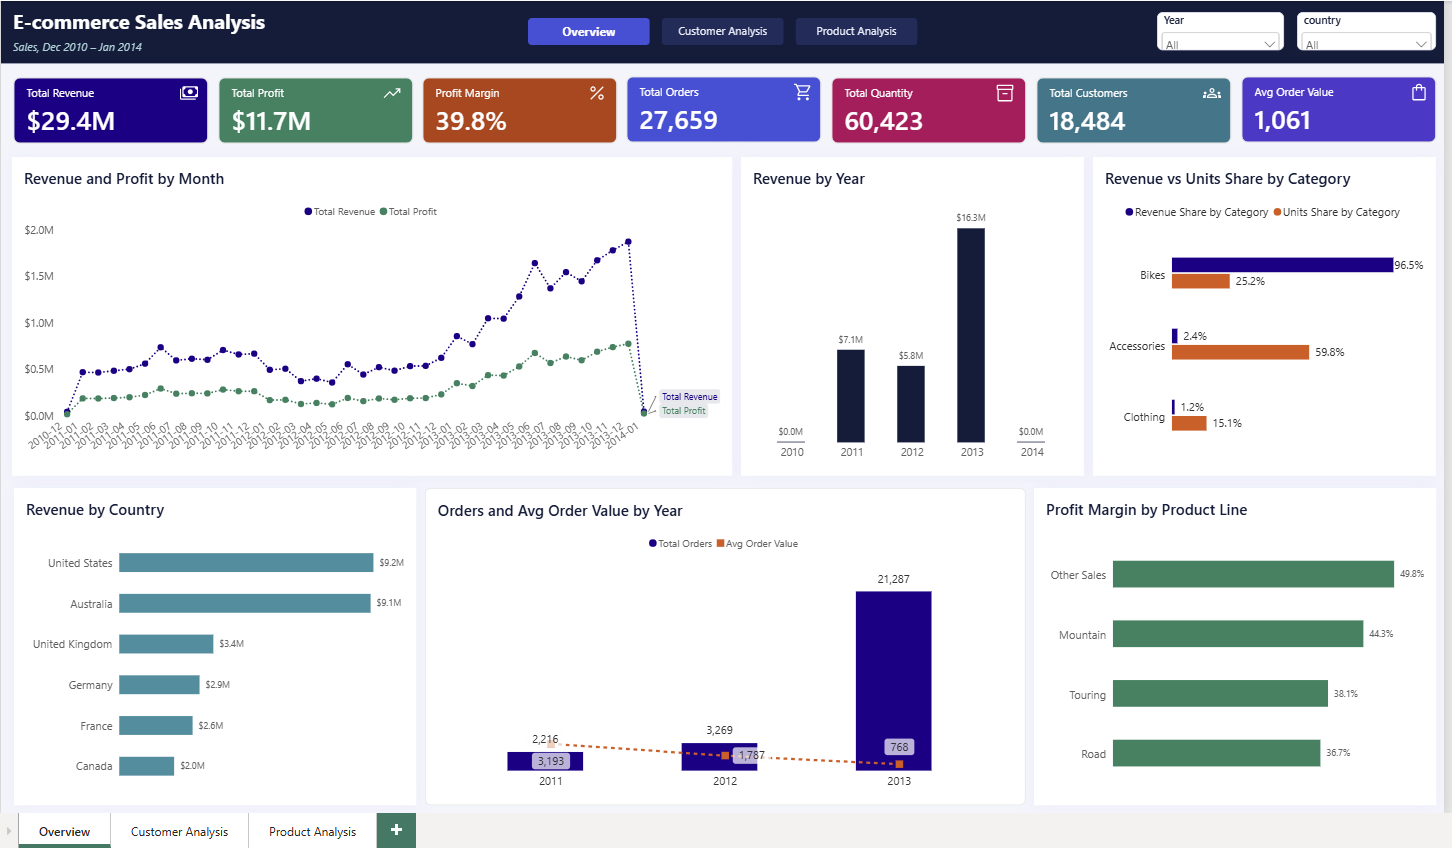

What the dashboard file says about the page in this screenshot:
{"tool":"powerbi","page":{"name":"Overview","canvas":[1920,1080],"ordinal":0},"visuals":[{"type":"cardVisual","title":"Total Revenue","fields":{"Data":["fact_sales.Total Sales"]},"box":[25.4,173.9,241.3,165.2],"z":0},{"type":"cardVisual","title":"Total Orders","fields":{"Data":["fact_sales.Total Orders"]},"box":[829.7,173.9,241.3,165.2],"z":1000},{"type":"lineChart","title":"Sales Trend","fields":{"Category":["Calendar.Year"],"Y":["fact_sales.Total Sales"]},"box":[26.1,367.4,1587,323.9],"z":2000},{"type":"slicer","title":"Year","fields":{"Values":["Calendar.Year"]},"box":[1645.7,173.9,245.7,263],"z":3000},{"type":"slicer","title":"Category","fields":{"Values":["dim_products.category"]},"box":[1674.9,503.4,245.7,219.6],"z":4000},{"type":"slicer","title":"Country","fields":{"Values":["dim_customers.country"]},"box":[1645.7,723.9,245.7,323.9],"z":5000},{"type":"clusteredColumnChart","title":"Sales by Category","fields":{"Category":["dim_products.category"],"Y":["fact_sales.Total Sales"]},"box":[26.1,723.9,1587,323.9],"z":6000},{"type":"shape","box":[25.4,0,1865.2,150],"z":7000},{"type":"textbox","box":[560.9,37,765.2,84.8],"z":8000},{"type":"cardVisual","title":"Total Profit","fields":{"Data":["fact_sales.Total Profit"]},"box":[290.6,173.9,241.3,165.2],"z":9000},{"type":"cardVisual","title":"Profit Margin","fields":{"Data":["fact_sales.Profit Margin"]},"box":[560.1,173.9,241.3,165.2],"z":10000},{"type":"cardVisual","title":"Total Quantity","fields":{"Data":["fact_sales.Total Quantity"]},"box":[1097.1,173.9,241.3,165.2],"z":11000},{"type":"cardVisual","title":"Avg Shipping Time","fields":{"Data":["fact_sales.Average Shipping Time"]},"box":[1371,173.9,241.3,165.2],"z":12000}]}

Visuals, with their boxes on the page's 1920x1080 design canvas (x1, y1, x2, y2). These are canvas units, not pixel positions in the 1452x848 screenshot, which may show the page scaled, cropped or inside an application window:
"Total Revenue" cardVisual: <bbox>25, 174, 267, 339</bbox>
"Total Orders" cardVisual: <bbox>830, 174, 1071, 339</bbox>
"Sales Trend" lineChart: <bbox>26, 367, 1613, 691</bbox>
"Year" slicer: <bbox>1646, 174, 1891, 437</bbox>
"Category" slicer: <bbox>1675, 503, 1921, 723</bbox>
"Country" slicer: <bbox>1646, 724, 1891, 1048</bbox>
"Sales by Category" clusteredColumnChart: <bbox>26, 724, 1613, 1048</bbox>
shape: <bbox>25, 0, 1891, 150</bbox>
textbox: <bbox>561, 37, 1326, 122</bbox>
"Total Profit" cardVisual: <bbox>291, 174, 532, 339</bbox>
"Profit Margin" cardVisual: <bbox>560, 174, 801, 339</bbox>
"Total Quantity" cardVisual: <bbox>1097, 174, 1338, 339</bbox>
"Avg Shipping Time" cardVisual: <bbox>1371, 174, 1612, 339</bbox>
